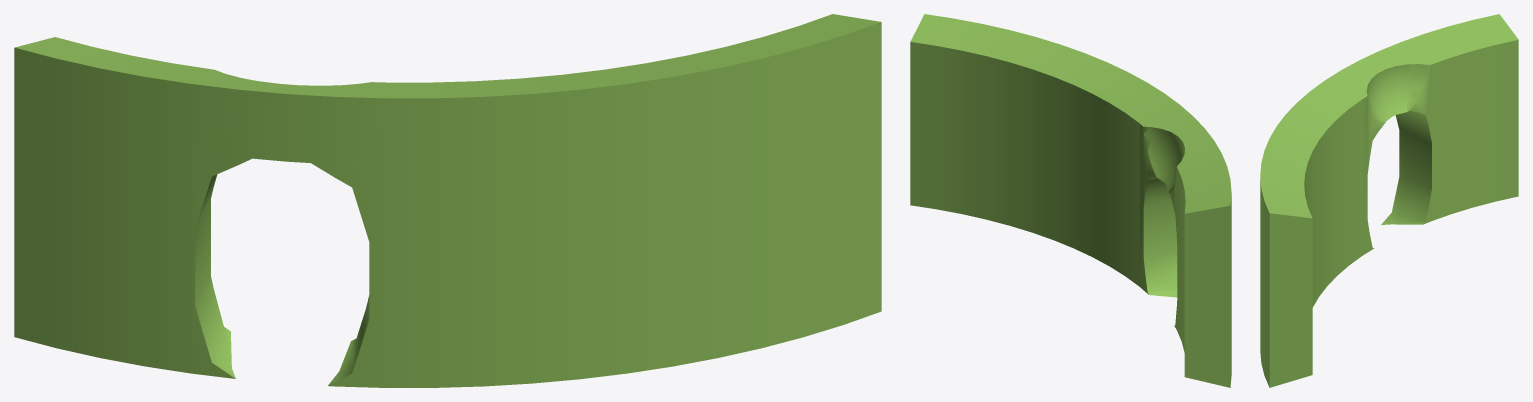
The model's file is CircleBlock18.obj.
3 renders of one model, left to right at view 1: azimuth 30°, elevation 25°; view 2: azimuth 150°, elevation 25°; view 3: azimuth 270°, elevation 25°, orthographic. The views are drawn at different scales.
Parts seen in each view (by area): view 1: CircleBlock18; view 2: CircleBlock18; view 3: CircleBlock18.
Boxes of the visible parts, x1=… form: CircleBlock18: x1=14, y1=14, x2=881, y2=387; CircleBlock18: x1=910, y1=14, x2=1231, y2=387; CircleBlock18: x1=1260, y1=14, x2=1518, y2=387.
Size of the model in its own units: 12.56 by 5.14 by 6.89.
